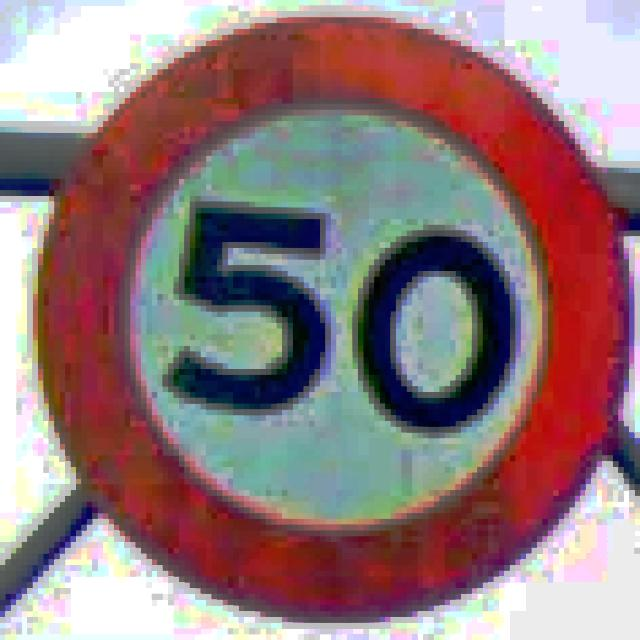max50: (27, 5, 635, 622)
